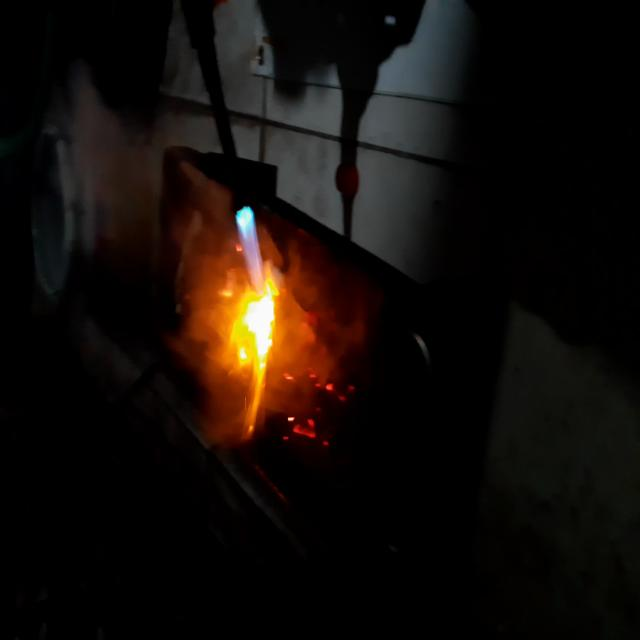Fire: (228, 188, 284, 438), (178, 171, 224, 401), (292, 324, 348, 466)
